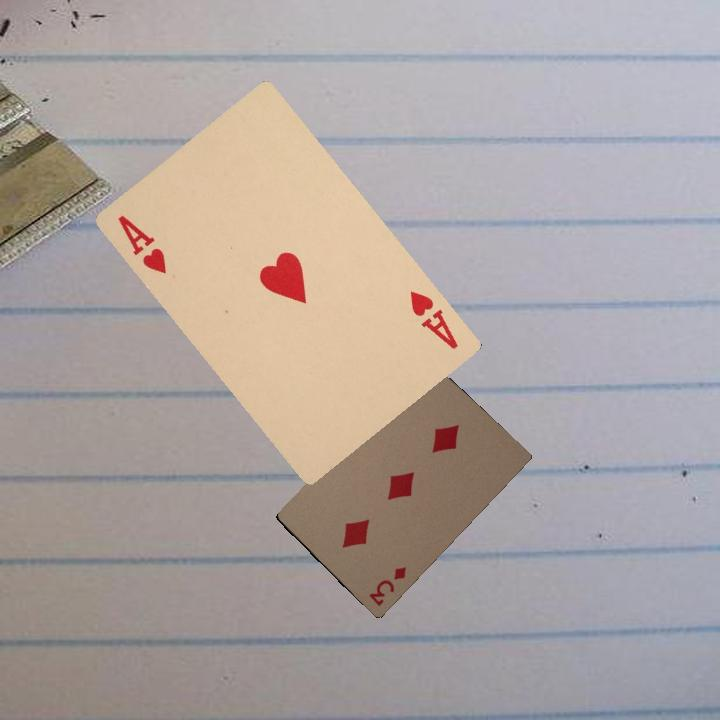3d: (365, 563, 409, 609)
Ah: (113, 211, 170, 277), (405, 286, 461, 352)
